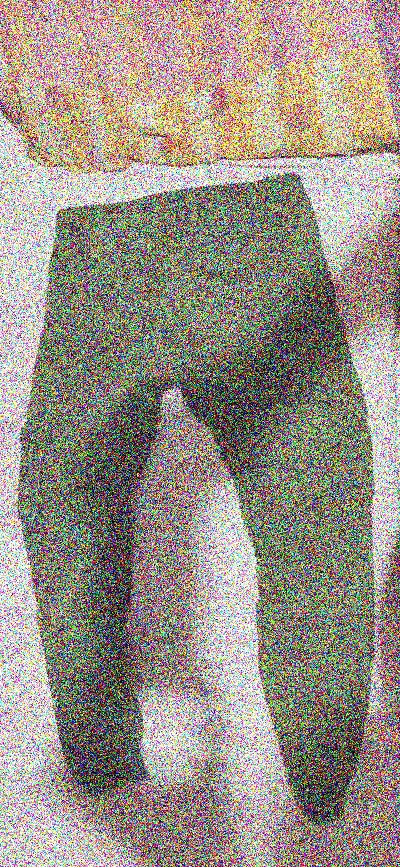Pants: (0, 143, 391, 832)
